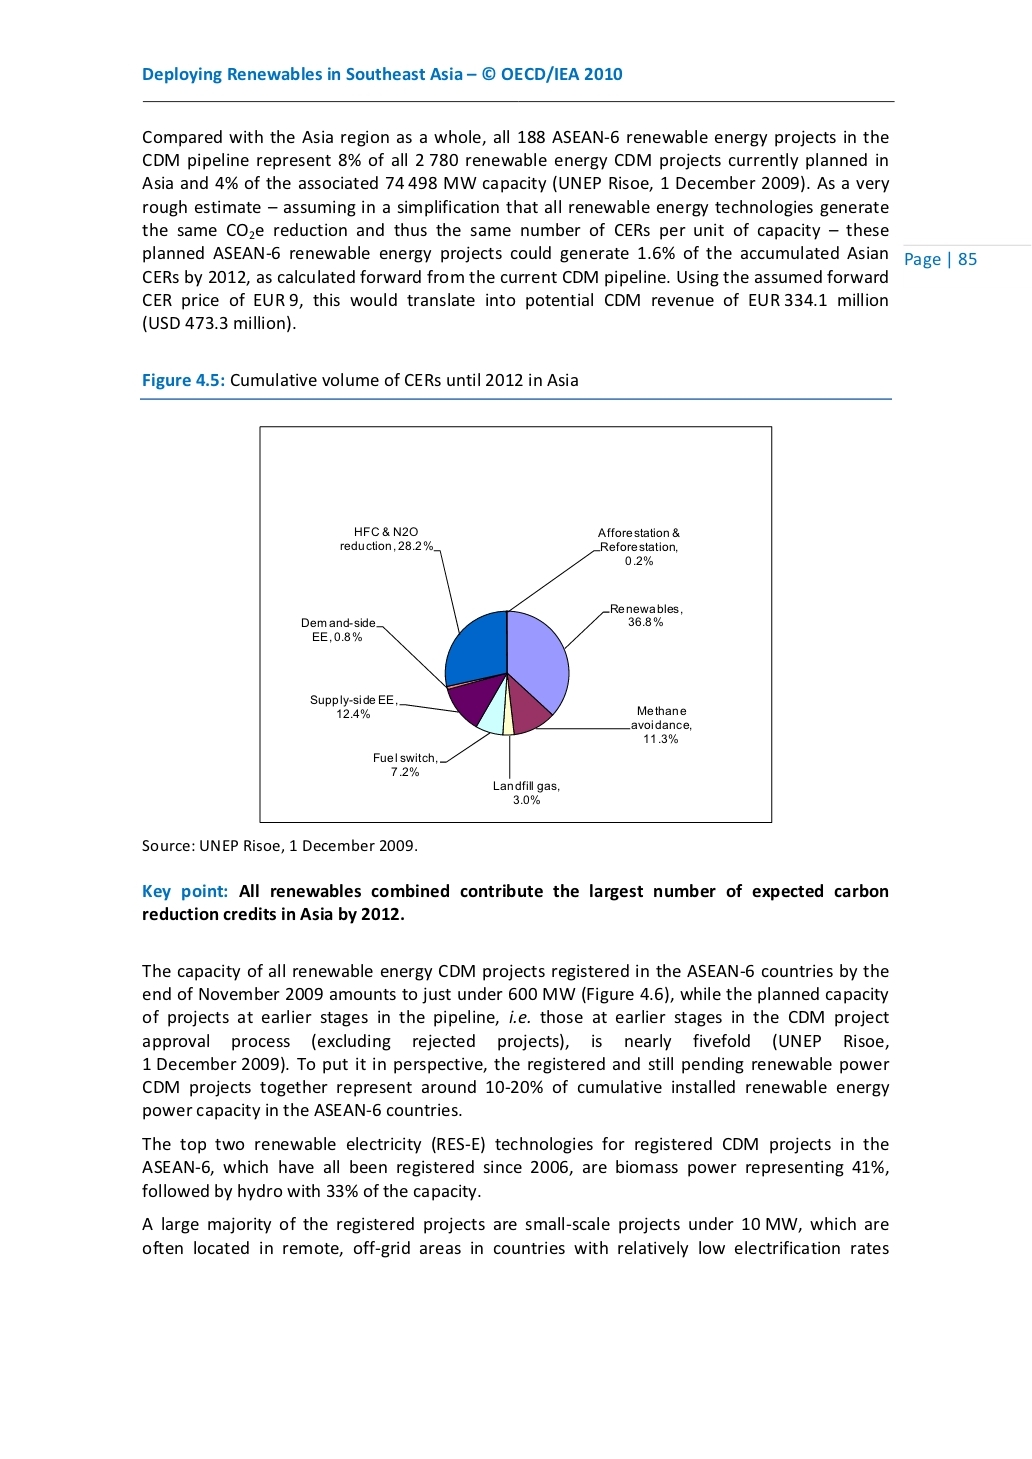figure: (259, 425, 772, 823)
